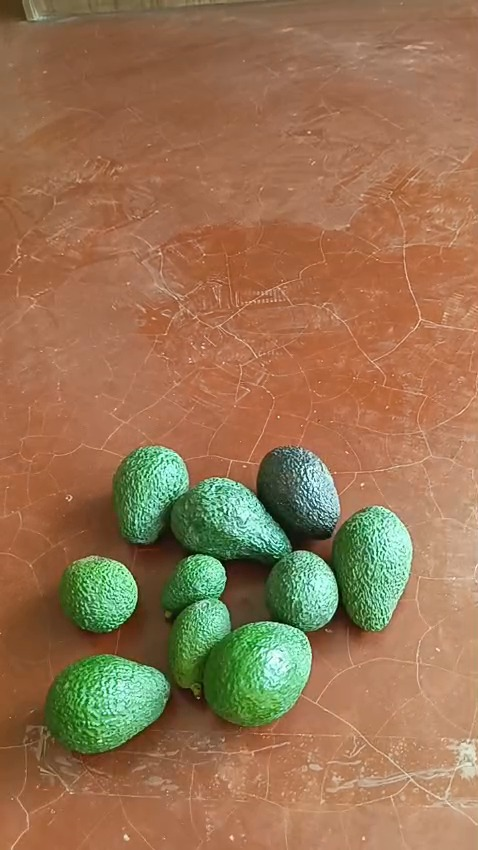Primera: (42, 652, 170, 753), (199, 618, 313, 725), (330, 505, 413, 630), (170, 477, 292, 562), (255, 445, 339, 539), (111, 444, 189, 543)
Segunda: (57, 553, 141, 634), (264, 550, 339, 632)
Tercera: (167, 597, 232, 694), (160, 553, 228, 617)
